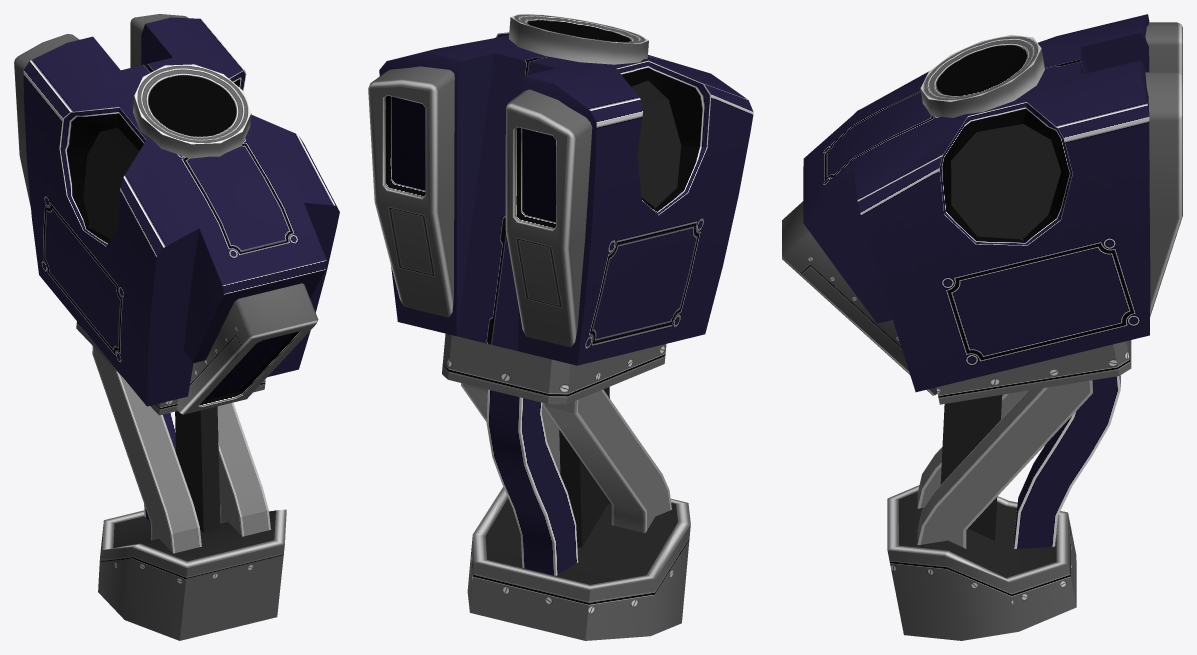
Rendered from body_a.fbx.
3 renders of one model, left to right at view 1: azimuth 30°, elevation 25°; view 2: azimuth 150°, elevation 25°; view 3: azimuth 270°, elevation 25°, orthographic. The views are drawn at different scales.
Parts seen in each view (by area): view 1: BODY_A; view 2: BODY_A; view 3: BODY_A.
Part boxes in pixels (x1,y1,x2,y2): BODY_A: (14,14,339,640); BODY_A: (368,14,753,640); BODY_A: (782,14,1182,640).
Bounding box in the file's own units: 17.51 × 47.2 × 30.48.
